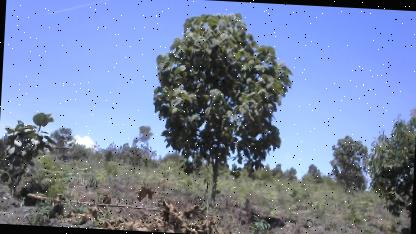tree: (145, 4, 299, 216)
